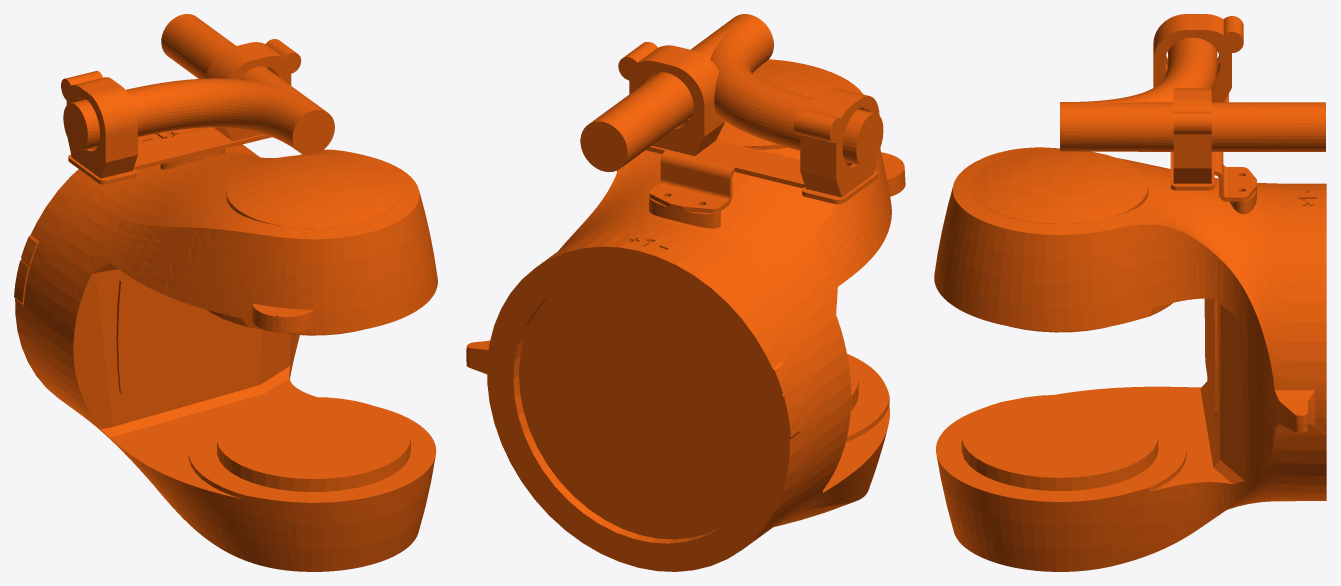
Rendered from KukaKR10R1100AlignedLink1.dae.
The picture shows the model from 3 angles, left to right: view 1: azimuth 30°, elevation 25°; view 2: azimuth 150°, elevation 25°; view 3: azimuth 270°, elevation 25°; orthographic projection. The views are drawn at different scales.
Parts seen in each view (by area): view 1: node0; view 2: node0; view 3: node0.
Part boxes in pixels (x1=…): node0: x1=14, y1=14, x2=437, y2=571; node0: x1=466, y1=14, x2=905, y2=571; node0: x1=934, y1=14, x2=1326, y2=571.
Size of the model in its own units: 0.2465 by 0.3384 by 0.2693.
